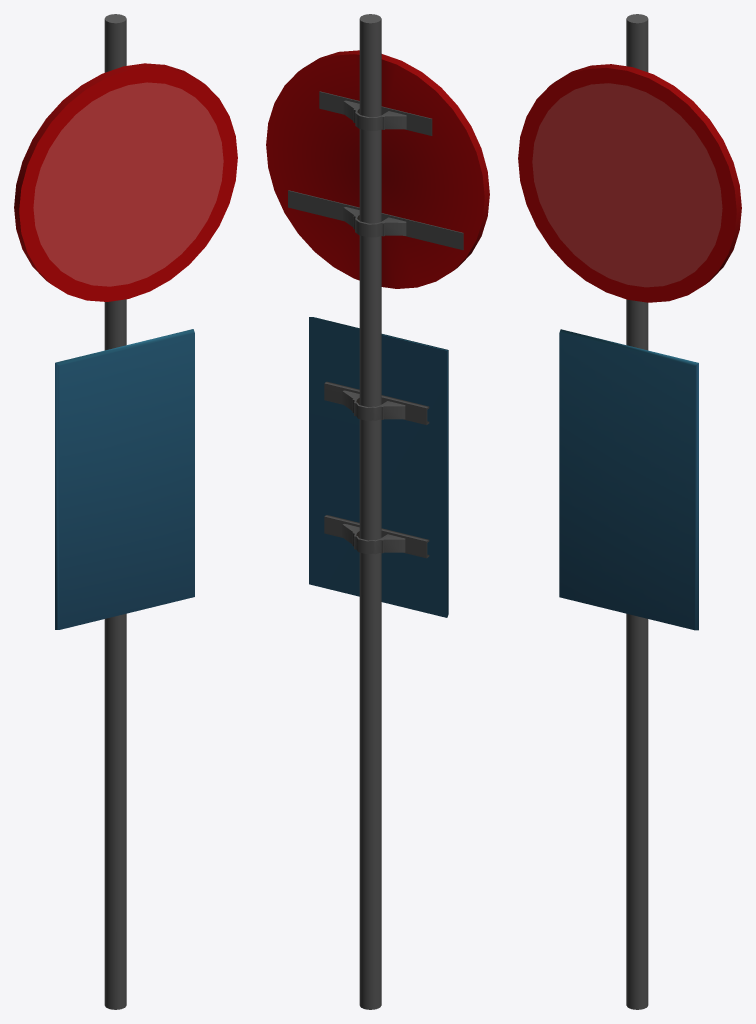
The model's file is TrafficSignRound_Sign.fbx.
3 views of the same model, side by side, from view 1: azimuth 30°, elevation 25°; view 2: azimuth 150°, elevation 25°; view 3: azimuth 330°, elevation 25° (orthographic).
Parts seen in each view (by area): view 1: TrafficSignRound_Sign; view 2: TrafficSignRound_Sign; view 3: TrafficSignRound_Sign.
Boxes of the visible parts, x1=… form: TrafficSignRound_Sign: x1=14, y1=14, x2=237, y2=1009; TrafficSignRound_Sign: x1=266, y1=14, x2=489, y2=1009; TrafficSignRound_Sign: x1=518, y1=14, x2=741, y2=1009.
Bounding box in the file's own units: 60.3 × 260 × 8.67.
